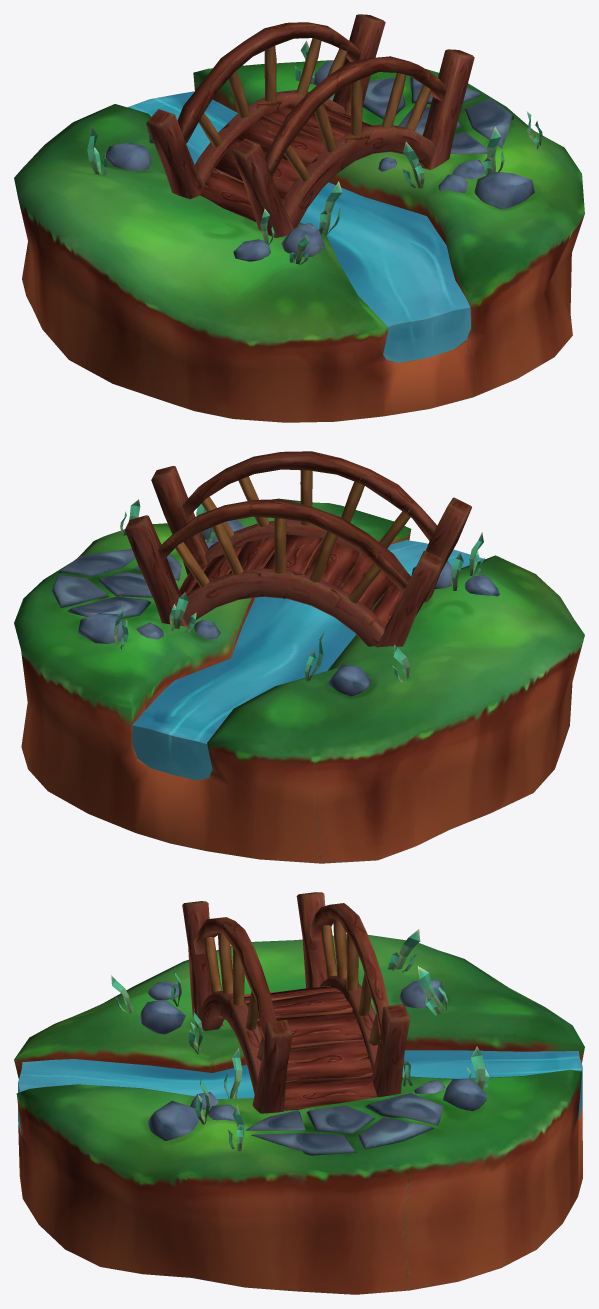
The picture shows the model from 3 angles, top to bottom: view 1: azimuth 30°, elevation 25°; view 2: azimuth 150°, elevation 25°; view 3: azimuth 270°, elevation 25°; orthographic projection.
Parts seen in each view (by area): view 1: Object_4; view 2: Object_4; view 3: Object_4.
Part boxes in pixels (left/top/right/bottom): Object_4: left=14, top=14, right=584, bottom=422; Object_4: left=14, top=451, right=584, bottom=863; Object_4: left=14, top=892, right=584, bottom=1294.
Bounding box in the file's own units: 2.99 × 1.58 × 3.08.
Materials: 1 (1 with a texture image).
